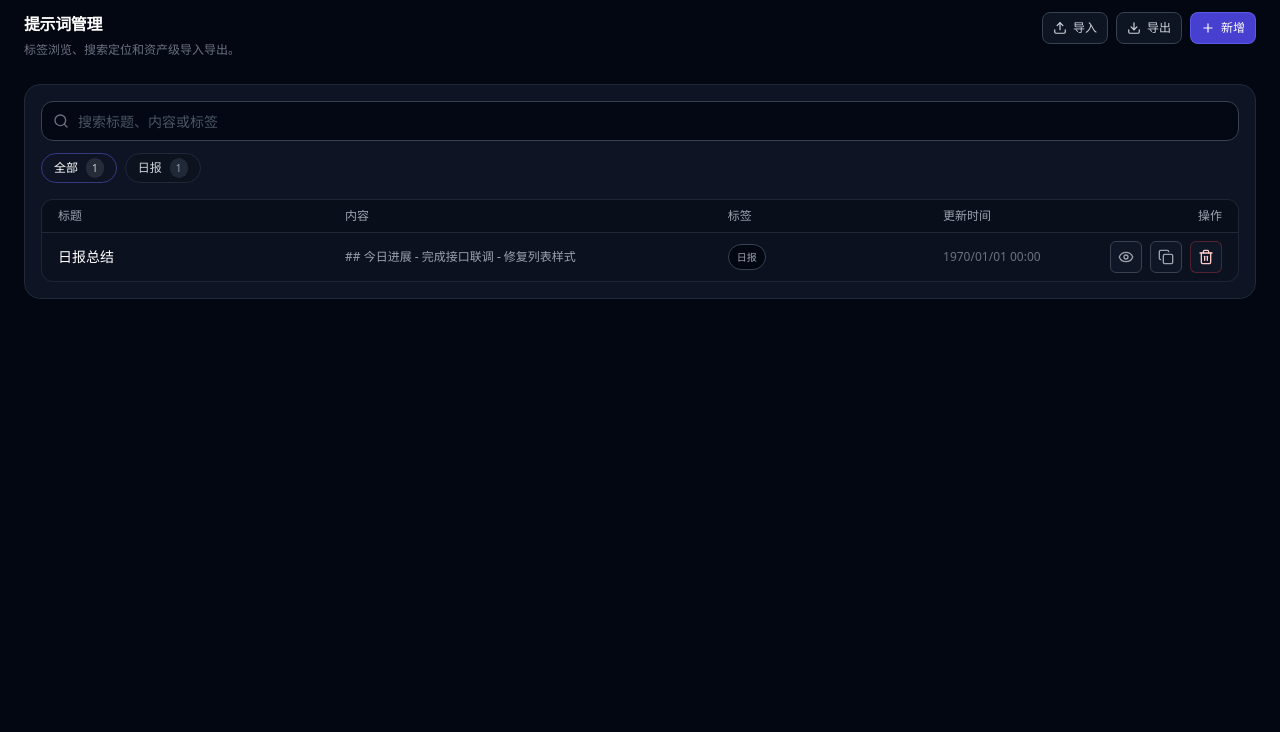
PromptsPage › renders a dedicated content column and shows markdown preview on hover
The image size is (1280, 732).
Expected: the column heading "内容" is shown, [329,200,712,232]
Hover over the button with aria-label "预览内容日报总结" at {"x": 520, "y": 257}, box [345,245,696,269]
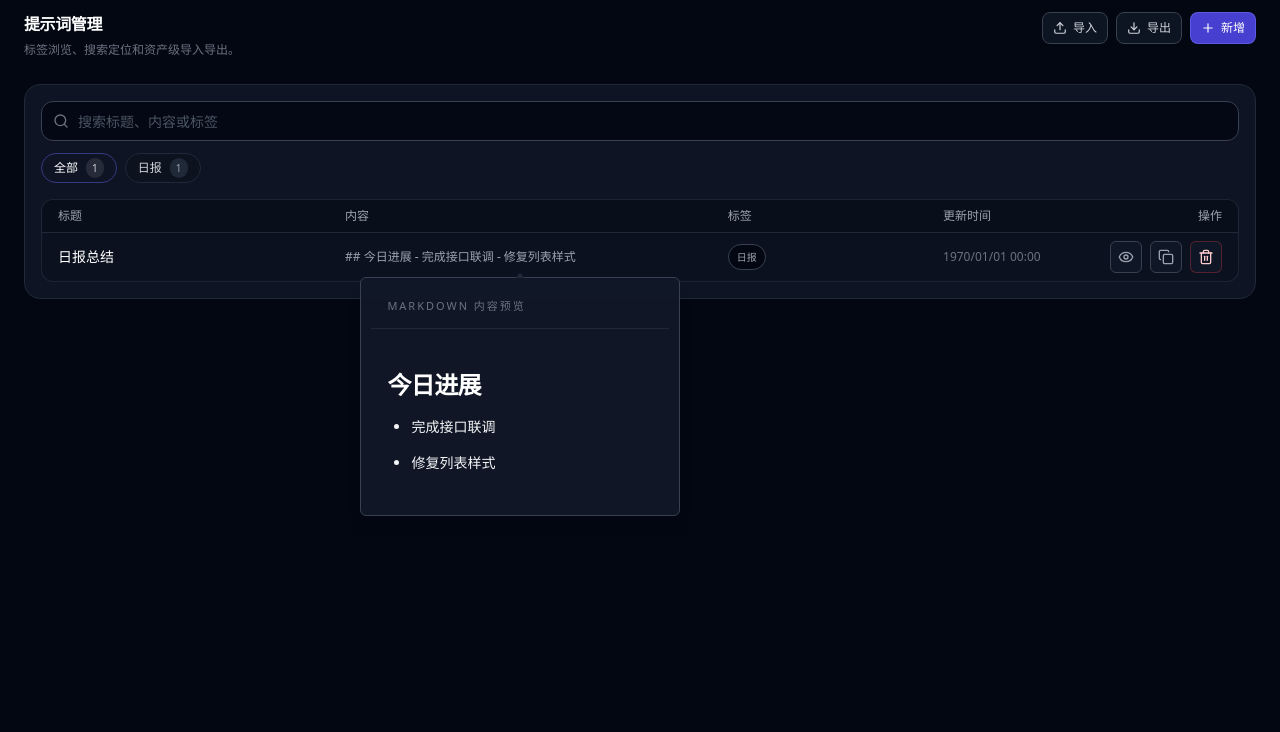
Result: the tooltip "Markdown 内容预览 今日进展 完成接口联调 修复列表样式" is shown at [360,277,680,516]
Result: the text "Markdown 内容预览" is shown at [371,284,669,329]
Result: the heading "今日进展" is shown at [387,368,481,401]
